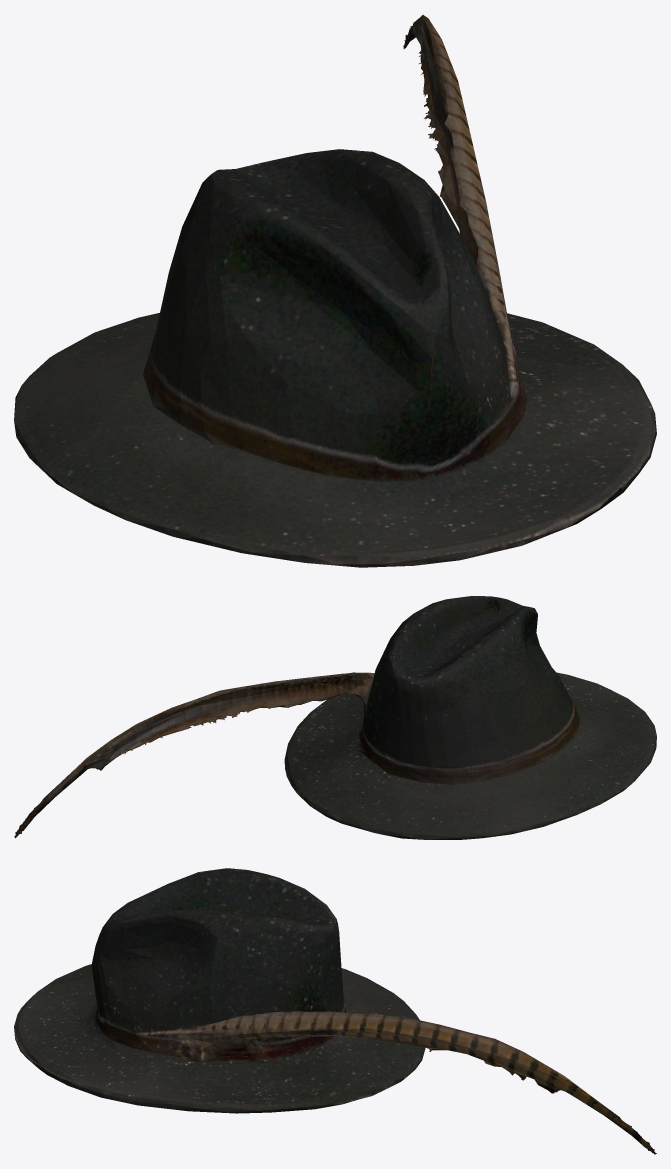
File: 115510A8-7CFA-7A4F-9469-949770CC86C9_512.glb
The picture shows the model from 3 angles, top to bottom: view 1: azimuth 30°, elevation 25°; view 2: azimuth 150°, elevation 25°; view 3: azimuth 270°, elevation 25°; orthographic projection. The views are drawn at different scales.
Visible parts, largest first — view 1: Fasanenfederhut_3k_512; view 2: Fasanenfederhut_3k_512; view 3: Fasanenfederhut_3k_512.
Boxes of the visible parts, x1,y1,x2,y2 form: Fasanenfederhut_3k_512: (14, 14, 656, 567); Fasanenfederhut_3k_512: (14, 596, 656, 839); Fasanenfederhut_3k_512: (14, 868, 656, 1154).
Bounding box in the file's own units: 0.3924 × 0.1377 × 0.5153.
1 material, 1 textured.
